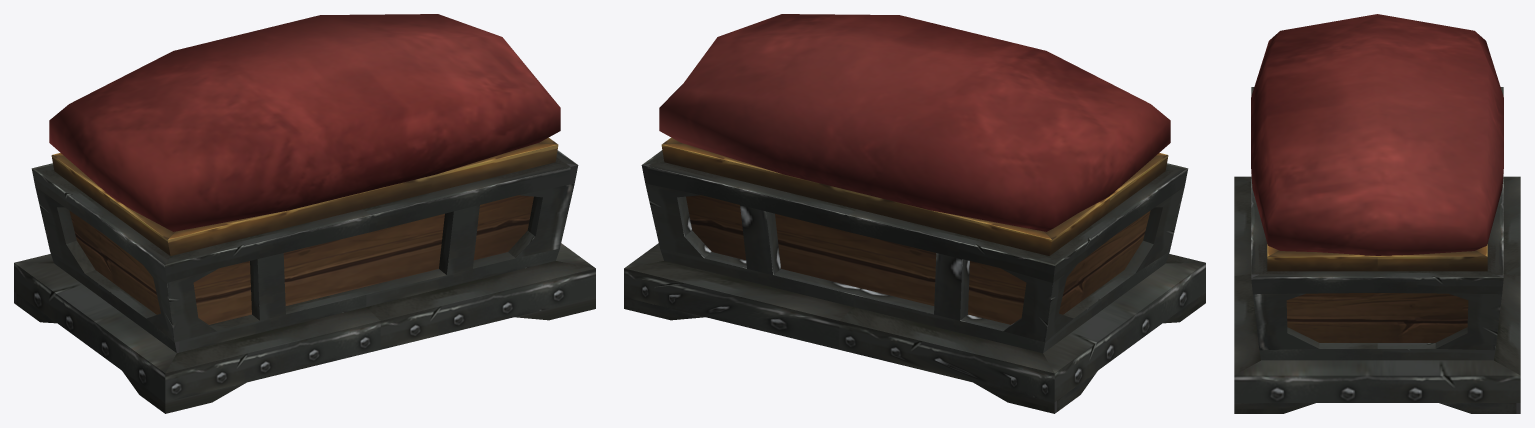
Rendered from Puff.glb.
The picture shows the model from 3 angles, left to right: view 1: azimuth 30°, elevation 25°; view 2: azimuth 150°, elevation 25°; view 3: azimuth 270°, elevation 25°; orthographic projection. The views are drawn at different scales.
Visible parts, largest first — view 1: Puff; view 2: Puff; view 3: Puff.
Part boxes in pixels (x1,y1,x2,y2): Puff: [14, 14, 595, 413]; Puff: [624, 14, 1205, 413]; Puff: [1234, 14, 1520, 413].
Size of the model in its own units: 2.48 by 1.36 by 1.51.
1 material, 1 textured.
